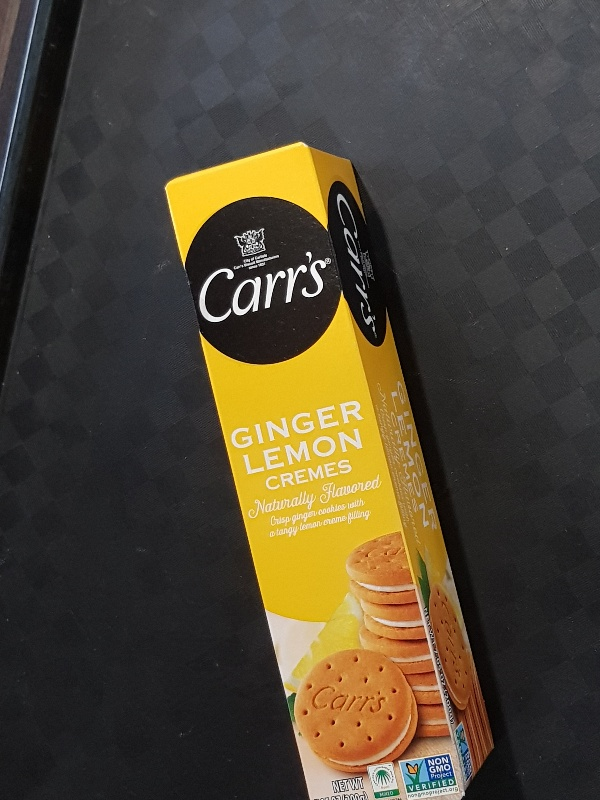Carr's Ginger Lemon Cremes: (160, 138, 496, 800)
